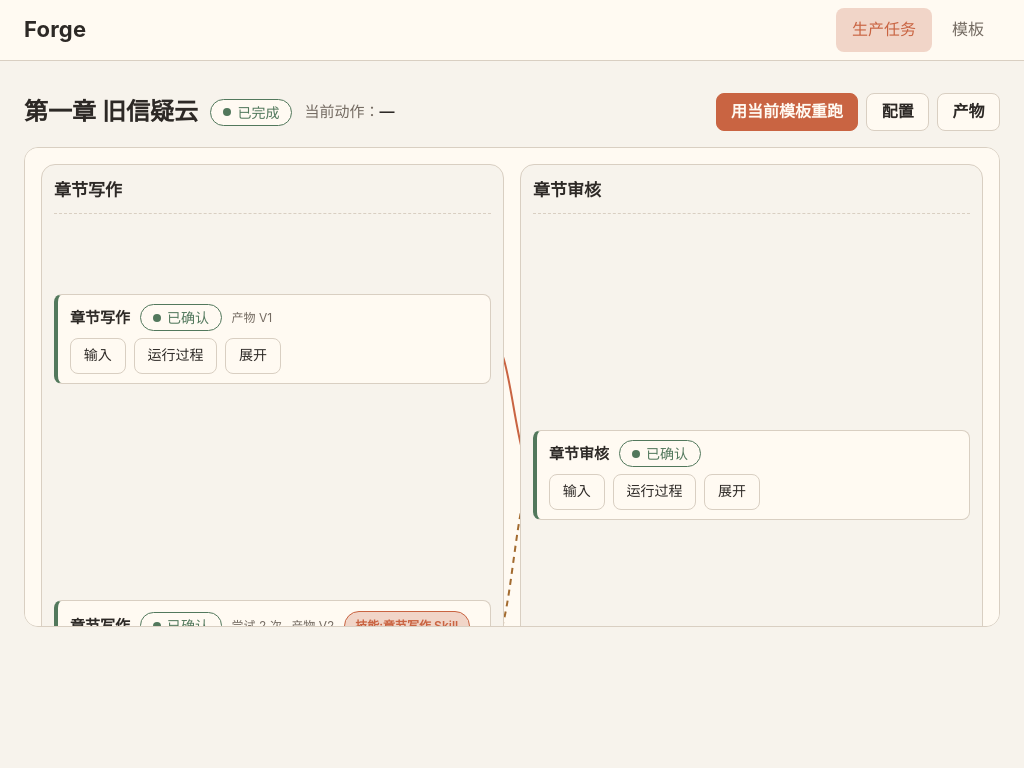
Test case: ProductionPage › loads skill content for skill nodes without requesting a trace
Check: the element with test id "workspace-canvas" is shown, box [24,147,1000,627]
Click the button "技能:章节写作 Skill": (407, 626) [344,611,470,641]
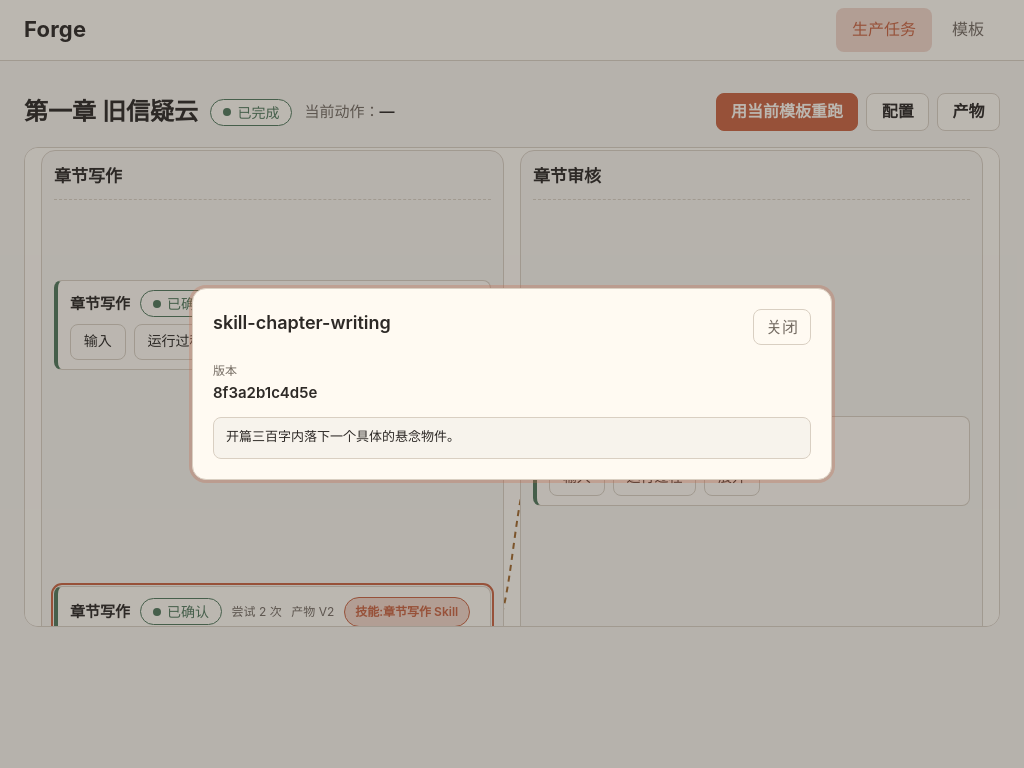
Check: the text "开篇三百字内落下一个具体的悬念物件。" is shown, box [213,417,811,459]
